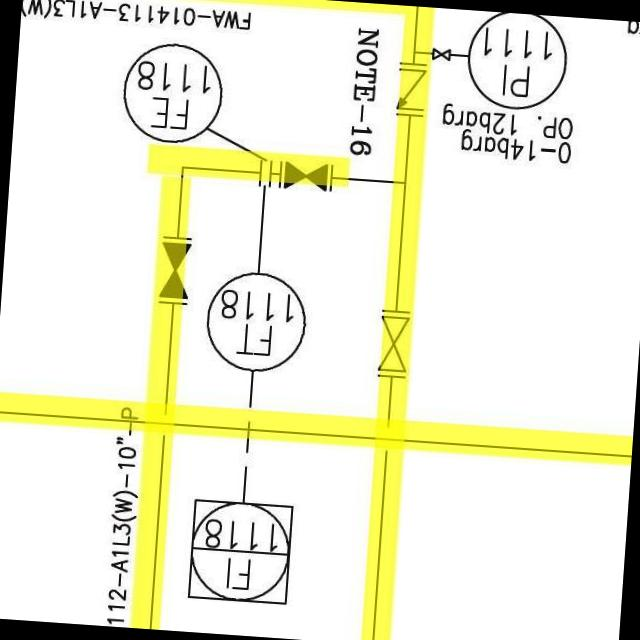GV: (368, 312, 416, 375)
